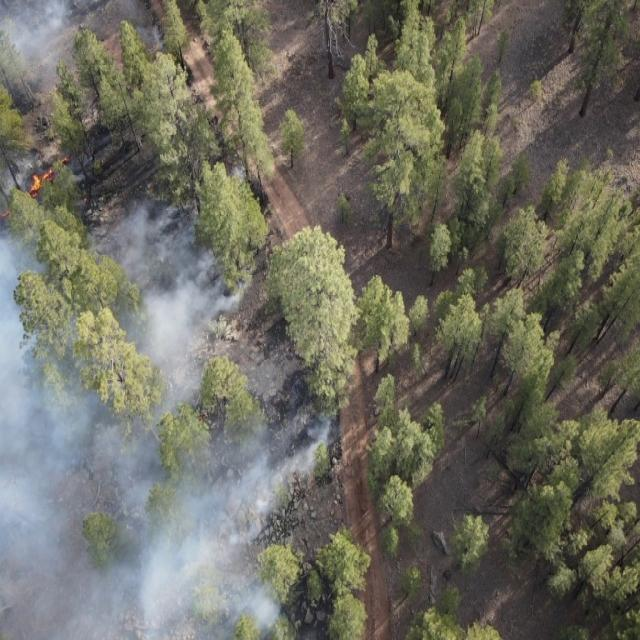fire: (0, 149, 72, 220)
smoke: (0, 160, 343, 640), (0, 0, 167, 69)
